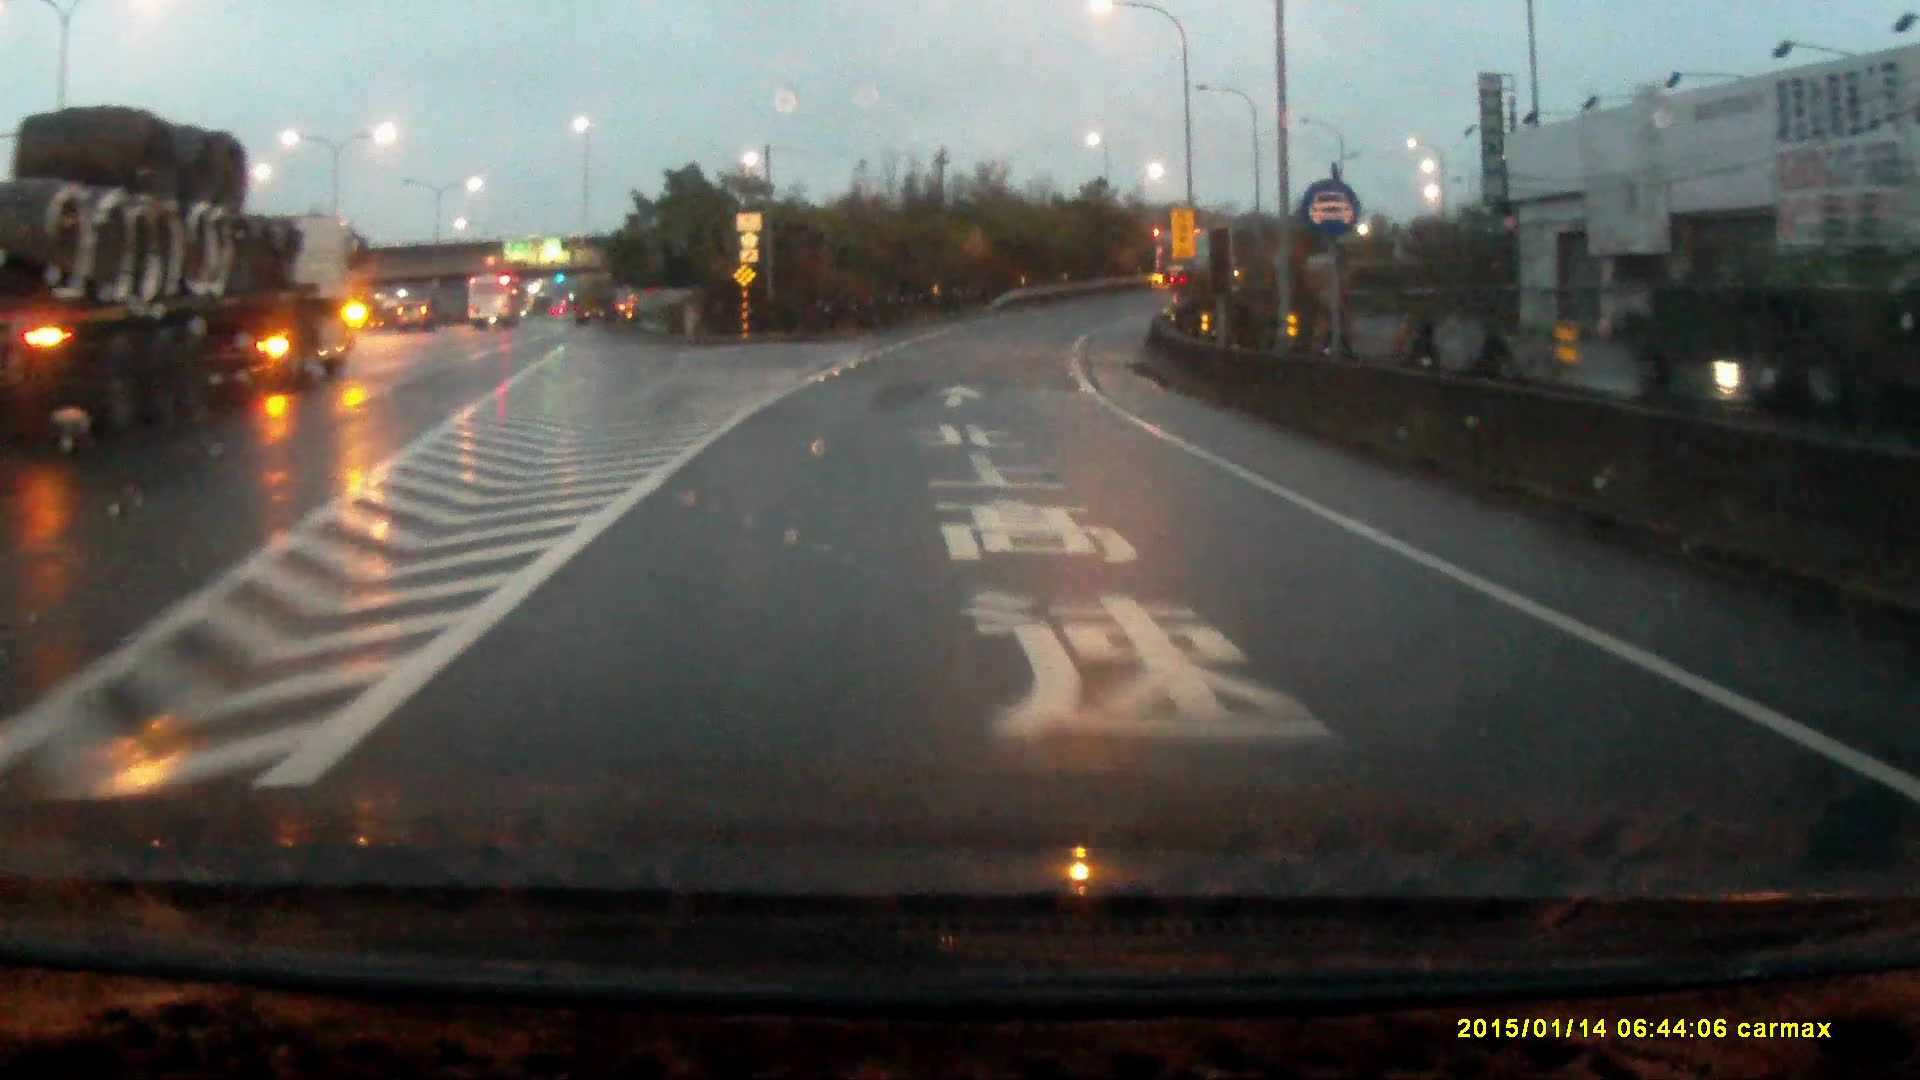vehicle: (1, 108, 364, 439), (1151, 222, 1244, 285), (467, 272, 527, 328), (396, 294, 434, 328)
